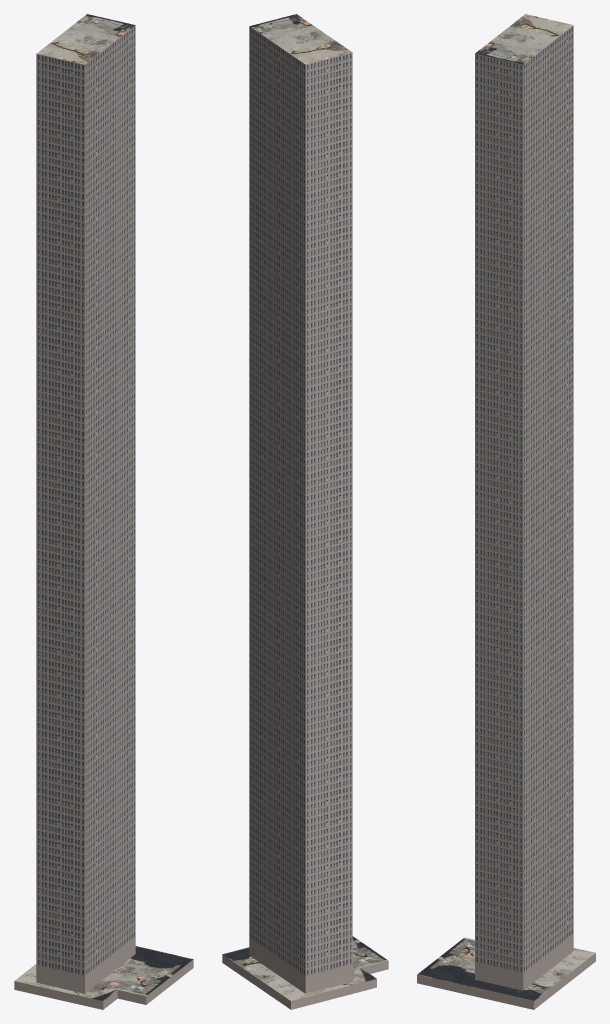
Rendered from building41.fbx.
The picture shows the model from 3 angles, left to right: view 1: azimuth 90°, elevation 25°; view 2: azimuth 150°, elevation 25°; view 3: azimuth 270°, elevation 25°; orthographic projection.
Parts seen in each view (by area): view 1: Object.2184, geometryt040100010000000110110100110010010010000st44_Ce_af15, geometryt040100010000000110110100110010010010000st45_Ce_8c8b; view 2: Object.2184, geometryt040100010000000110110100110010010010000st44_Ce_af15, geometryt040100010000000110110100110010010010000st45_Ce_8c8b; view 3: Object.2184, geometryt040100010000000110110100110010010010000st44_Ce_af15, geometryt040100010000000110110100110010010010000st45_Ce_8c8b.
Boxes of the visible parts, x1,y1,x2,y2 form: Object.2184: (37,26,135,976); geometryt040100010000000110110100110010010010000st44_Ce_af15: (14,25,193,1009); geometryt040100010000000110110100110010010010000st45_Ce_8c8b: (15,14,193,1000); Object.2184: (250,27,351,976); geometryt040100010000000110110100110010010010000st44_Ce_af15: (222,26,388,1009); geometryt040100010000000110110100110010010010000st45_Ce_8c8b: (223,14,387,1000); Object.2184: (475,26,573,973); geometryt040100010000000110110100110010010010000st44_Ce_af15: (417,25,595,1009); geometryt040100010000000110110100110010010010000st45_Ce_8c8b: (417,14,595,1000).
Bounding box in the file's own units: 7430 × 47200 × 8183.
3 materials, 3 textured.
